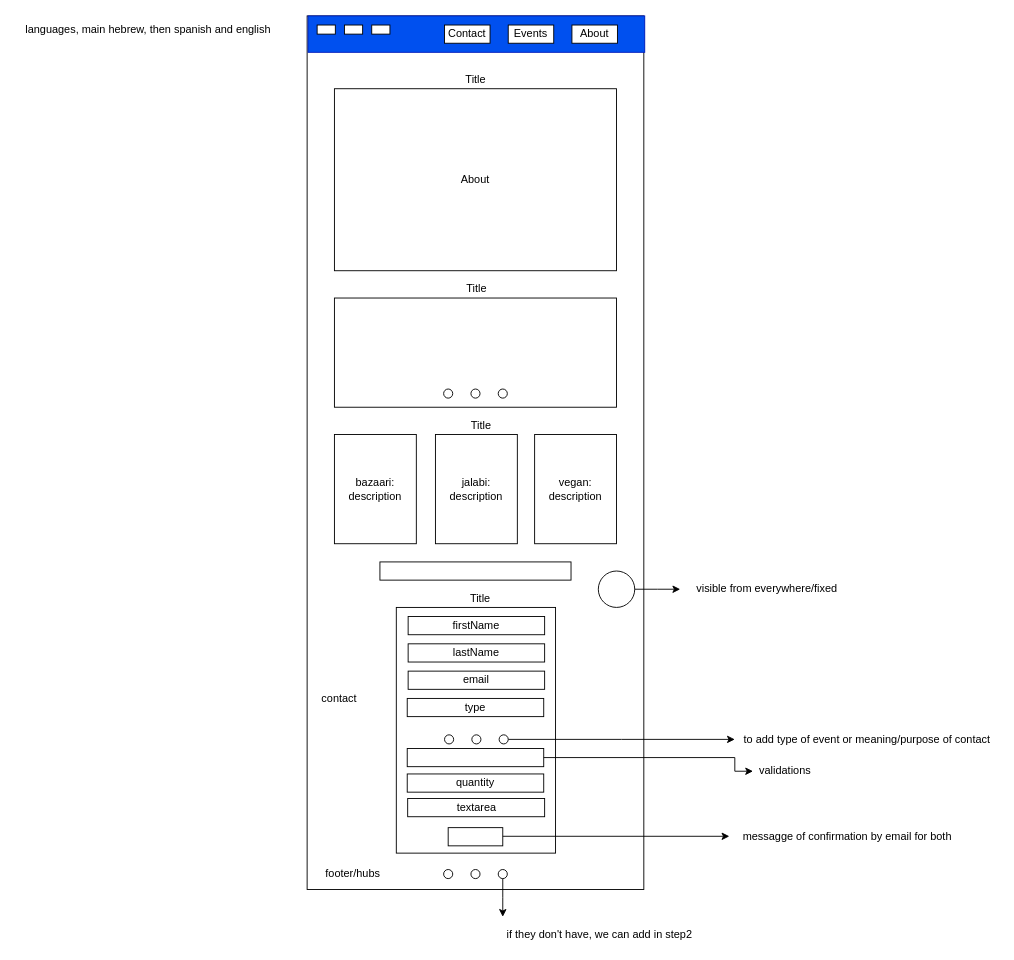
The diagram is 1014 pixels wide and 960 high, and some of its shapes have lost their labels. The box of each missing label's shape, as (x1, y1, x2, y2) in pixels:
carrousel fotos platos principales, eventos, personas: (334, 297, 617, 407)
contact for more information: (379, 561, 571, 580)
date: (406, 748, 544, 767)
submit: (447, 827, 503, 846)
WSP: (597, 570, 635, 607)
